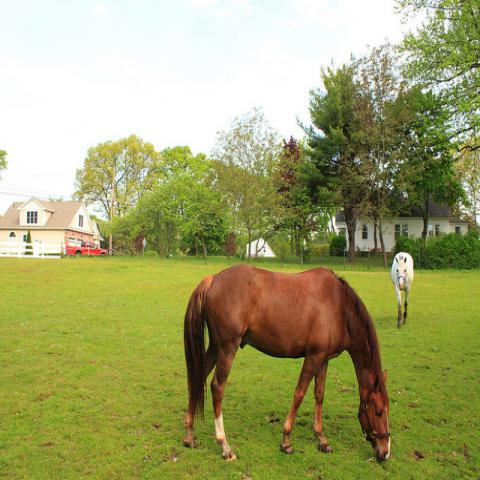truck: (65, 240, 109, 255)
